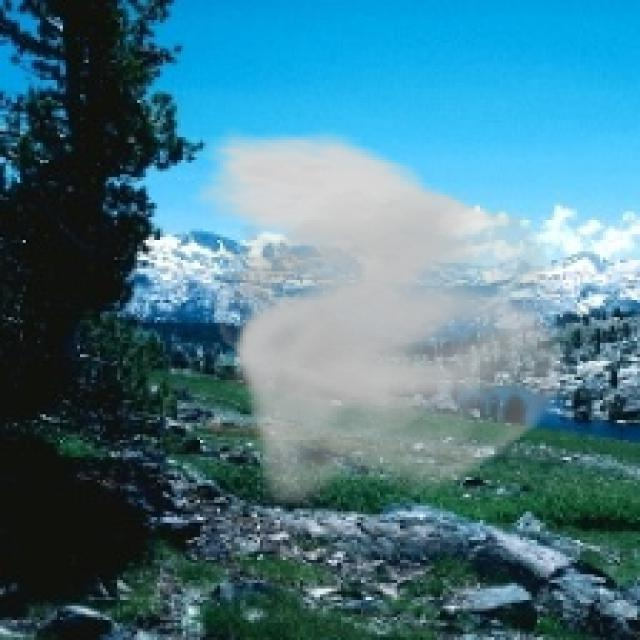Smoke: (188, 126, 580, 506)
